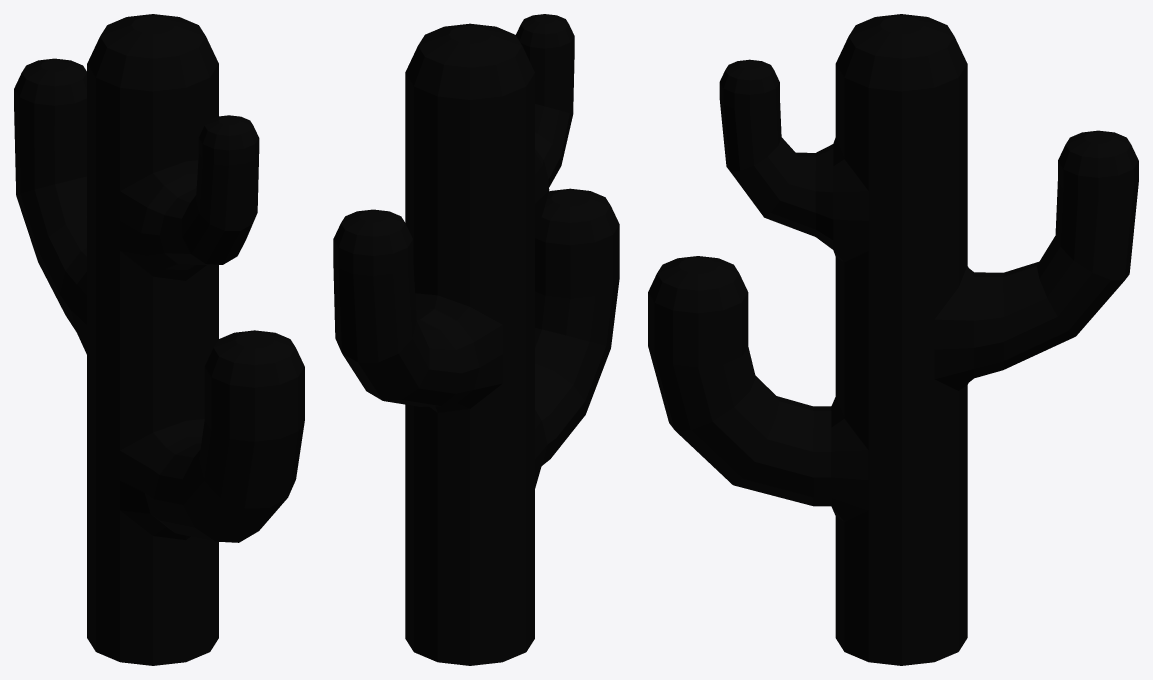
File: Cactus.fbx
3 renders of one model, left to right at view 1: azimuth 30°, elevation 25°; view 2: azimuth 150°, elevation 25°; view 3: azimuth 270°, elevation 25°, orthographic.
Parts seen in each view (by area): view 1: Cactus; view 2: Cactus; view 3: Cactus.
Boxes of the visible parts, x1=… form: Cactus: x1=14, y1=14, x2=304, y2=665; Cactus: x1=333, y1=14, x2=619, y2=665; Cactus: x1=648, y1=14, x2=1138, y2=665.
Size of the model in its own units: 2 by 10.26 by 7.45.
